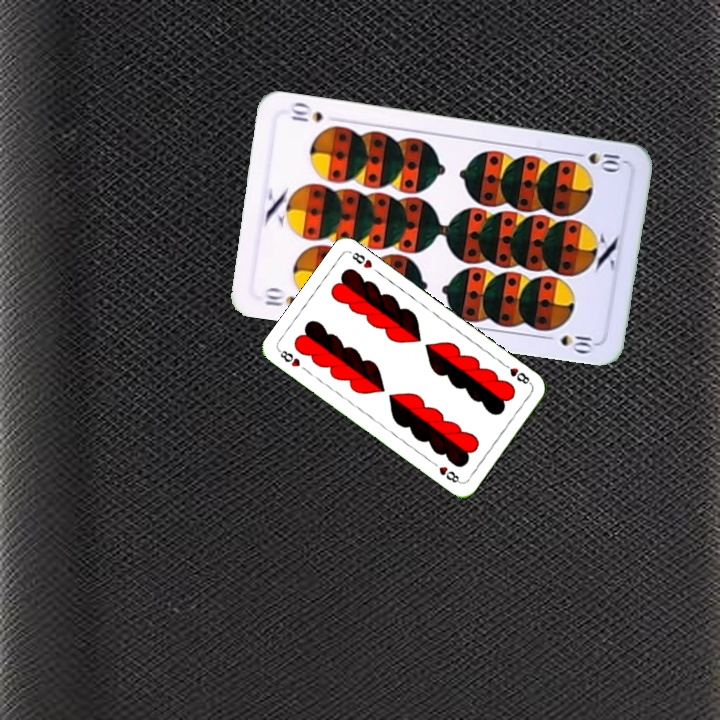H8: (498, 359, 534, 387), (275, 346, 303, 369)
S10: (568, 148, 623, 173), (260, 284, 299, 310)
